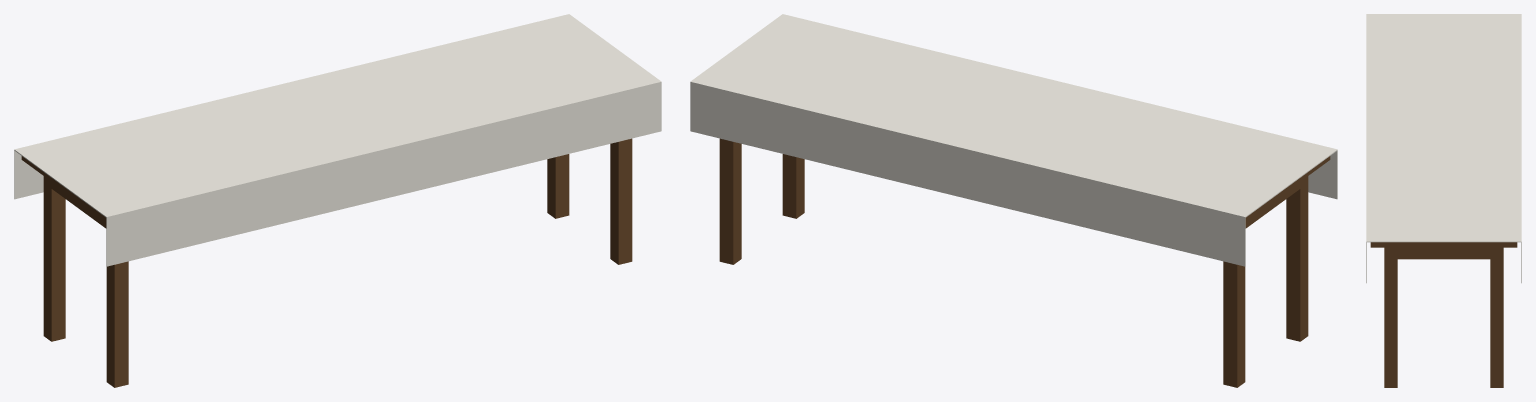
3 views of the same model, side by side, from view 1: azimuth 30°, elevation 25°; view 2: azimuth 150°, elevation 25°; view 3: azimuth 270°, elevation 25° (orthographic). The views are drawn at different scales.
Visible parts, largest first — view 1: parametric-variant-table-1st-pub-727b9df3e41bd95f2bb3; view 2: parametric-variant-table-1st-pub-727b9df3e41bd95f2bb3; view 3: parametric-variant-table-1st-pub-727b9df3e41bd95f2bb3.
Boxes of the visible parts, x1,y1,x2,y2 form: parametric-variant-table-1st-pub-727b9df3e41bd95f2bb3: [14, 14, 661, 387]; parametric-variant-table-1st-pub-727b9df3e41bd95f2bb3: [690, 14, 1337, 387]; parametric-variant-table-1st-pub-727b9df3e41bd95f2bb3: [1366, 14, 1521, 387].
Size of the model in its own units: 2.39 by 0.754 by 0.69.
